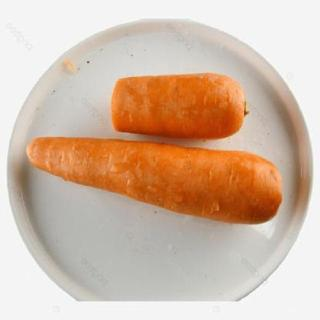carrot: (24, 136, 284, 228), (110, 72, 250, 136)
